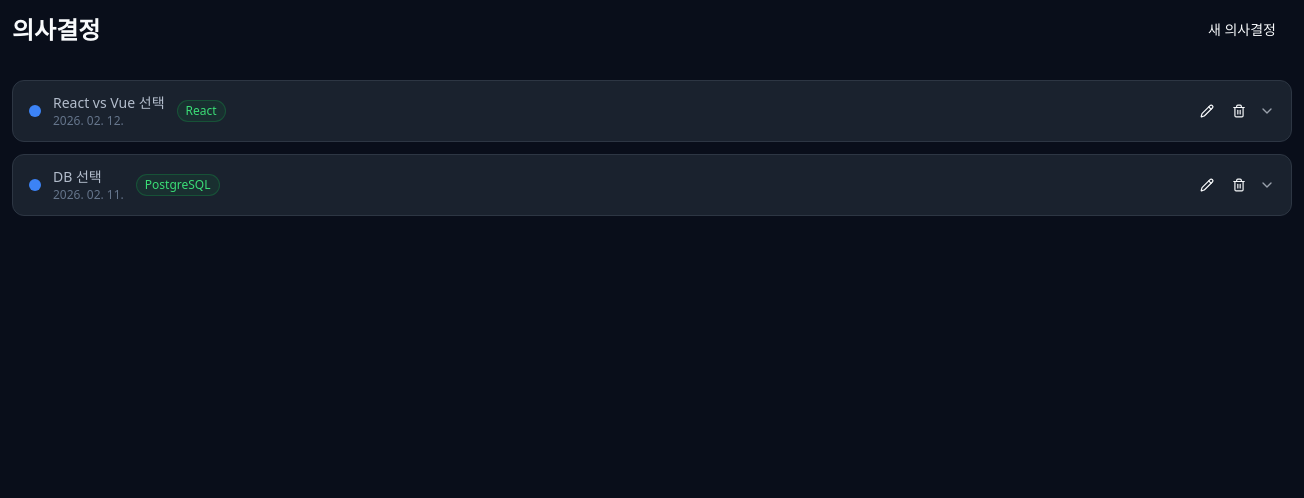
Test: DecisionsPage › should expand card on click to show details
Expected: the text "프론트엔드 프레임워크 결정 필요" is not shown
Click the first card
Click the button "React vs Vue 선택 2026. 02. 12. React" at (109, 102), box [13, 81, 1291, 141]
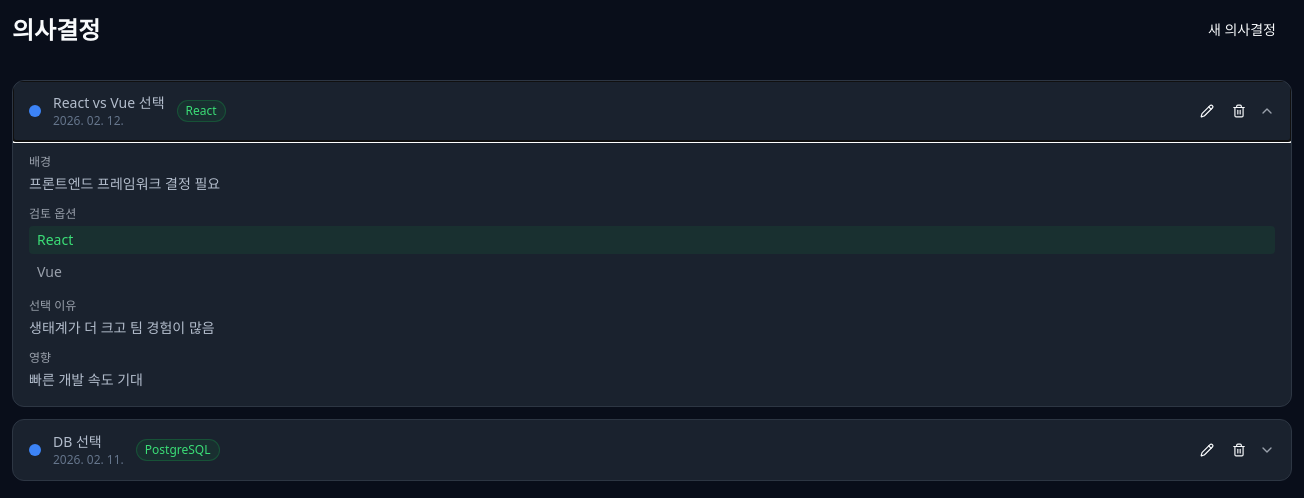
Expected: the text "프론트엔드 프레임워크 결정 필요" is shown, [29, 174, 220, 193]
Expected: the text "생태계가 더 크고 팀 경험이 많음" is shown, [29, 318, 215, 337]
